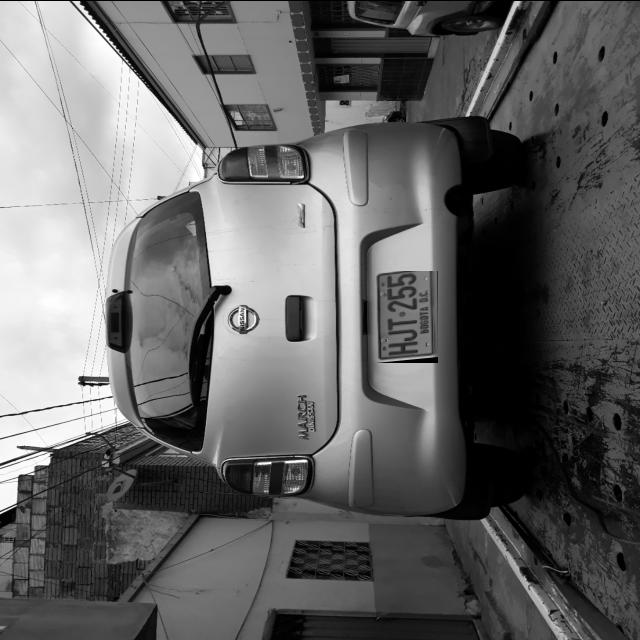plate: (375, 270, 438, 362)
